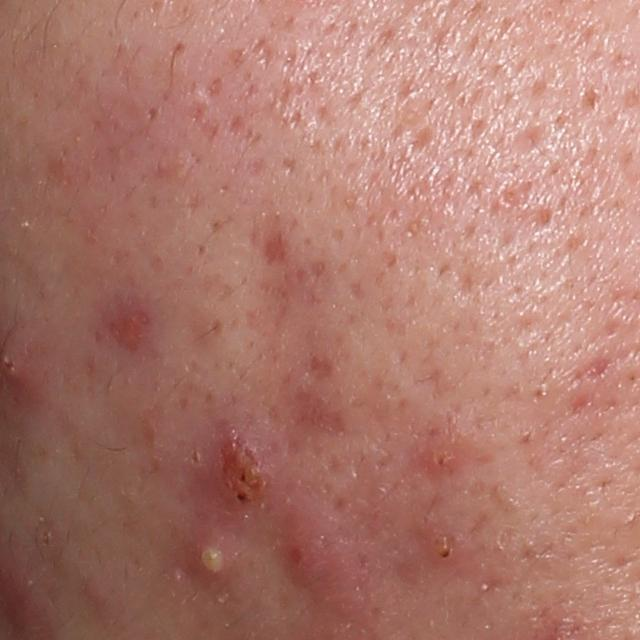atrophic_scar: (583, 350, 613, 378)
papule: (203, 421, 279, 516), (279, 507, 354, 592), (79, 577, 116, 613)
pustule: (409, 427, 472, 482), (189, 536, 237, 590)
